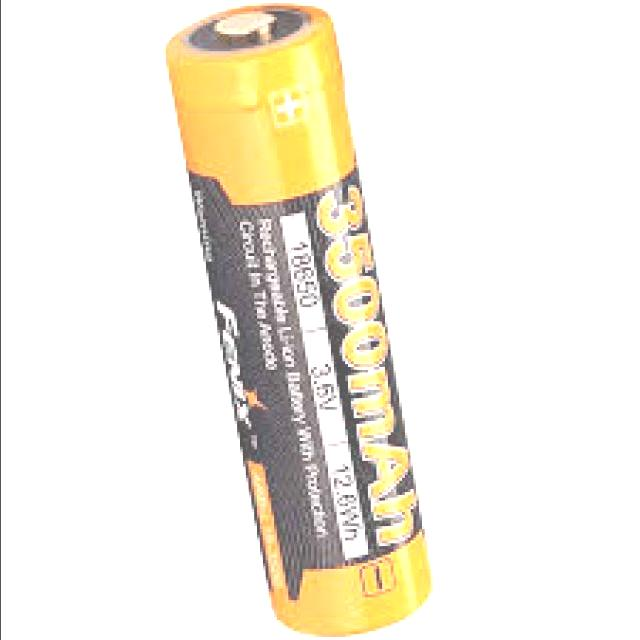AA: (165, 8, 424, 634)
